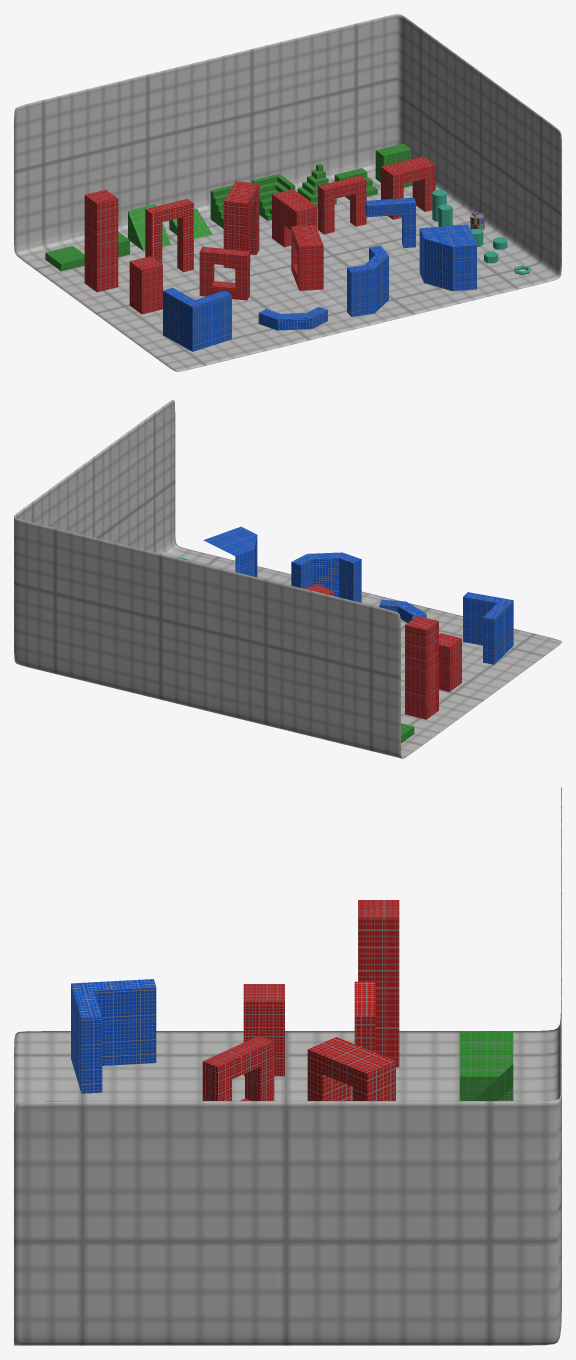
The model's file is DevLevel.fbx.
The picture shows the model from 3 angles, top to bottom: view 1: azimuth 30°, elevation 25°; view 2: azimuth 150°, elevation 25°; view 3: azimuth 270°, elevation 25°; orthographic projection. The views are drawn at different scales.
Parts seen in each view (by area): view 1: Studio Corner; view 2: Studio Corner; view 3: Studio Corner.
Boxes of the visible parts, left/top/right/bottom form: Studio Corner: left=14, top=14, right=561, bottom=371; Studio Corner: left=14, top=400, right=561, bottom=758; Studio Corner: left=14, top=787, right=561, bottom=1345.
Size of the model in its own units: 465 by 169 by 338.
